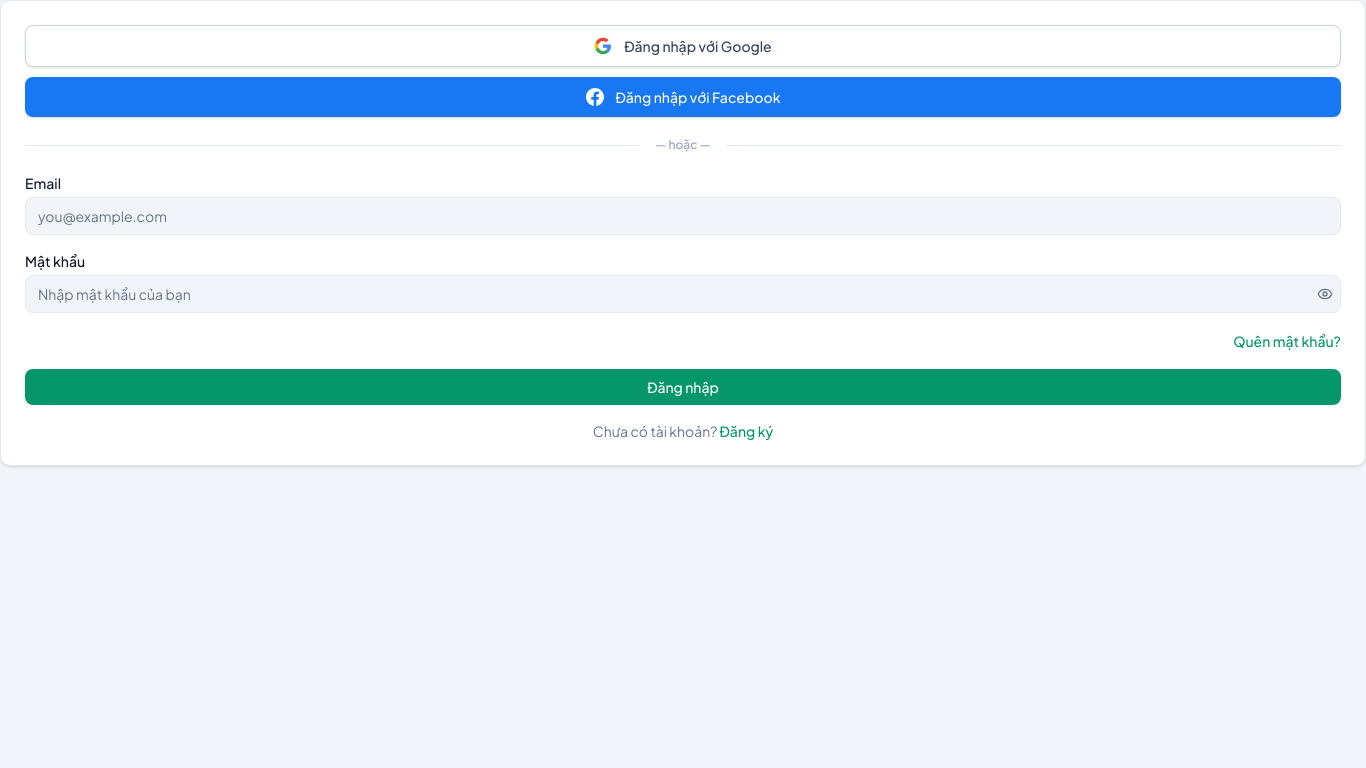
Test: LoginForm › displays error on unexpected exception
Type "test@example.com" into the field labelled "Email".
click(683, 216); type("test@example.com")  # box [25,197,1341,235]
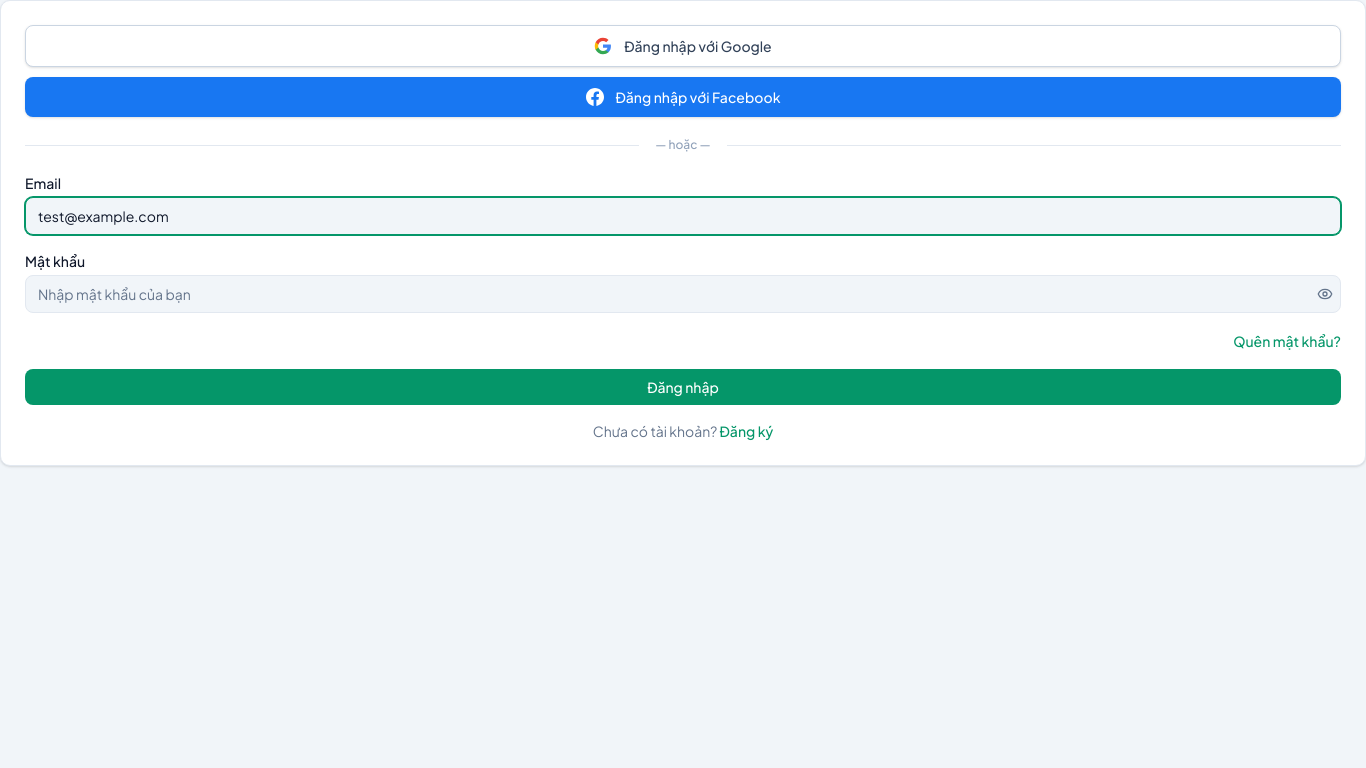
Type "mypassword123" into the password field with placeholder "Nhập mật khẩu của bạn".
click(683, 294); type("mypassword123")  # box [25,275,1341,313]
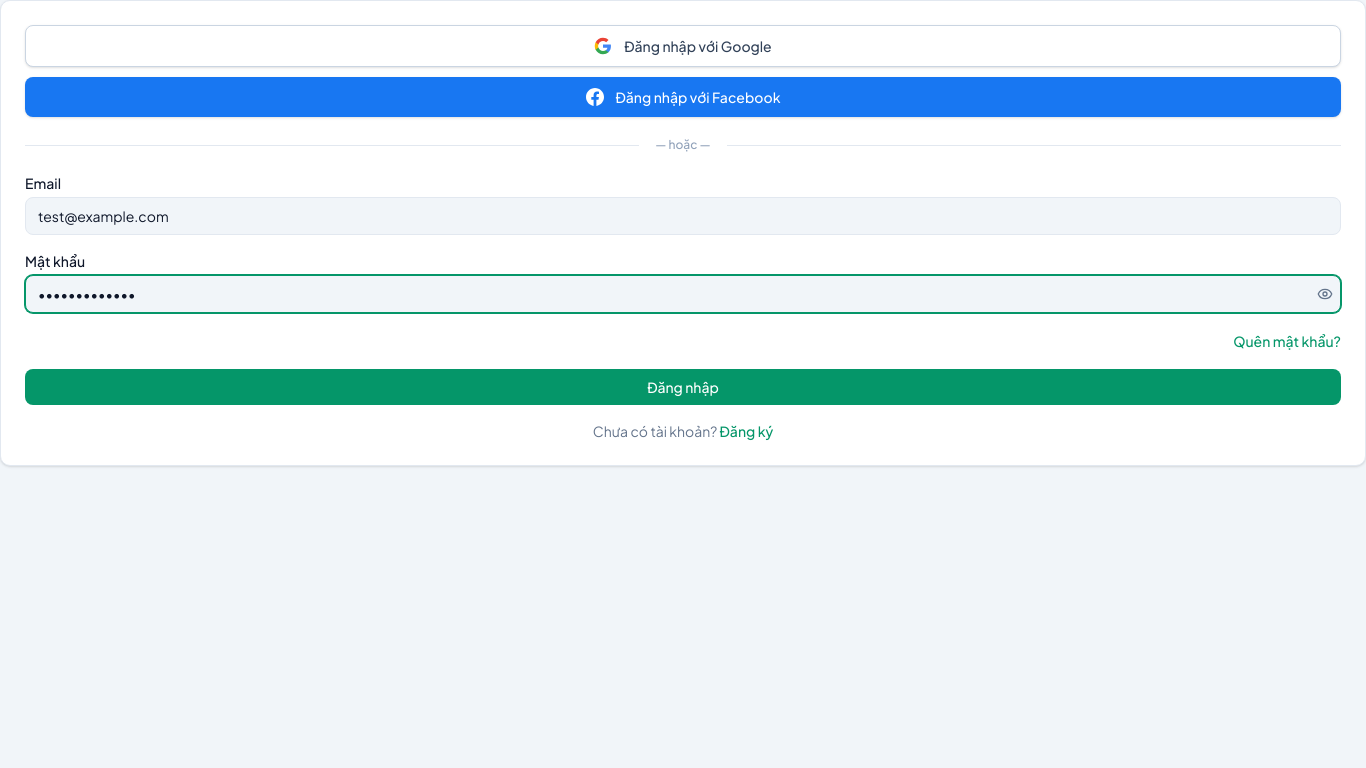
Click the button "Đăng nhập".
click(683, 387)  # box [25,369,1341,405]
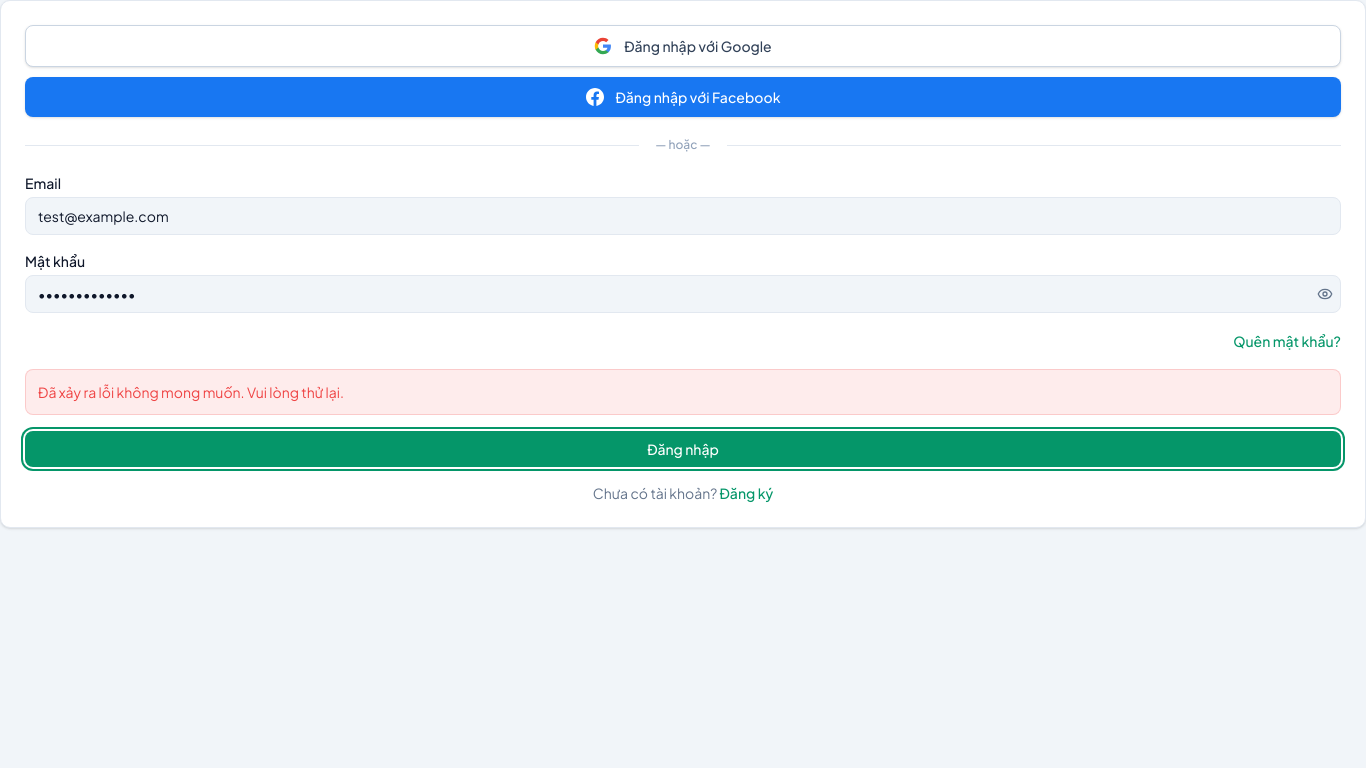
Expected: the text "Đã xảy ra lỗi không mong muốn. Vui lòng thử lại." is shown, [25,369,1341,415]
